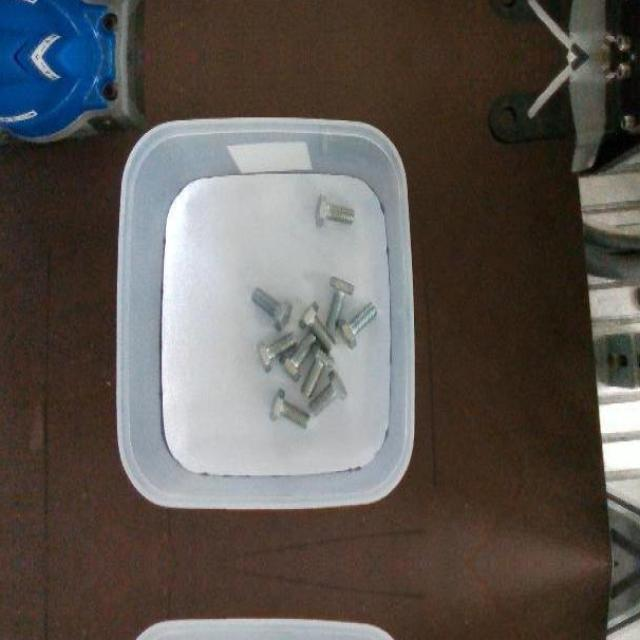screw: (337, 301, 379, 349), (301, 341, 334, 398), (308, 370, 348, 416), (252, 285, 292, 330), (325, 276, 354, 332), (256, 332, 296, 371), (315, 192, 356, 229)
